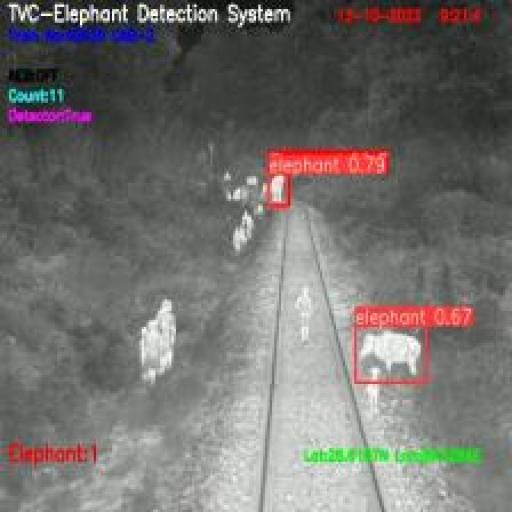Elephant: (356, 324, 428, 382), (270, 174, 287, 208)
